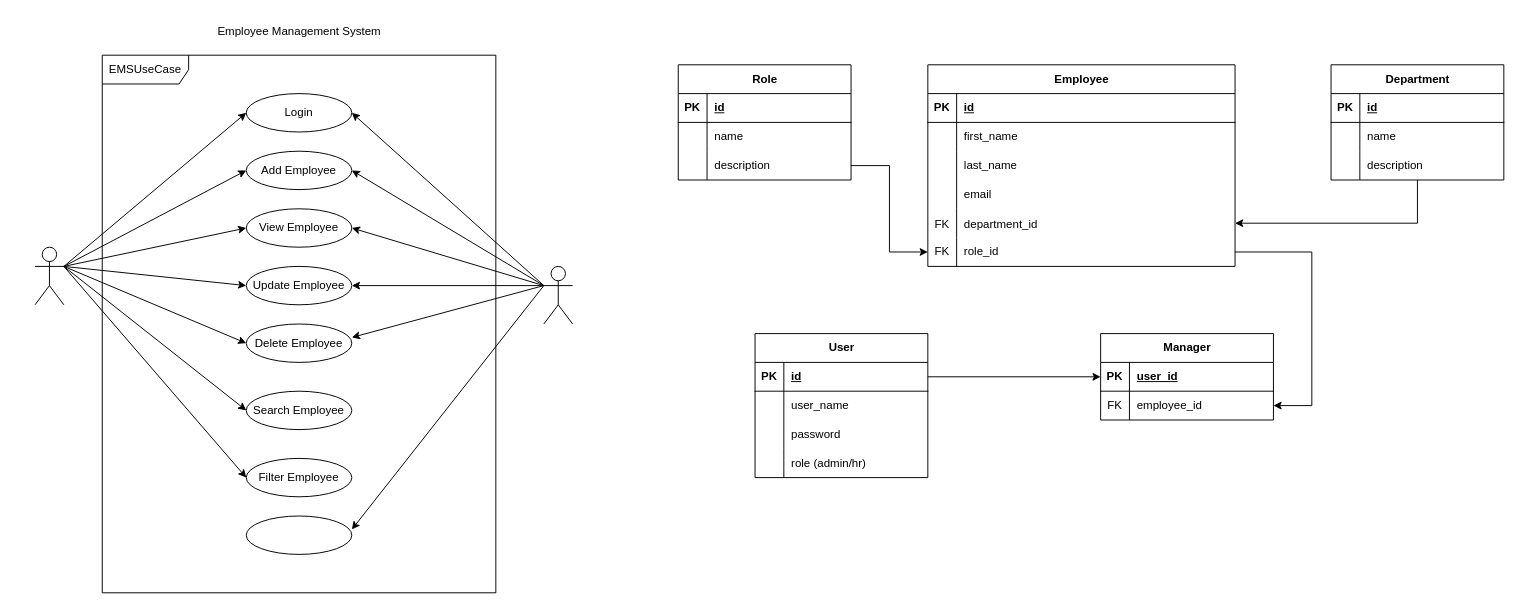
Some shapes in this 1521 by 610 pixel diagram are drawn without their labels. The shapes that lost their labels are listed below. From the top down, each one's centre as x and y in pixels, then its label:
point 49,275: HR Manager
point 558,294: Admin
point 298,534: generate reports
